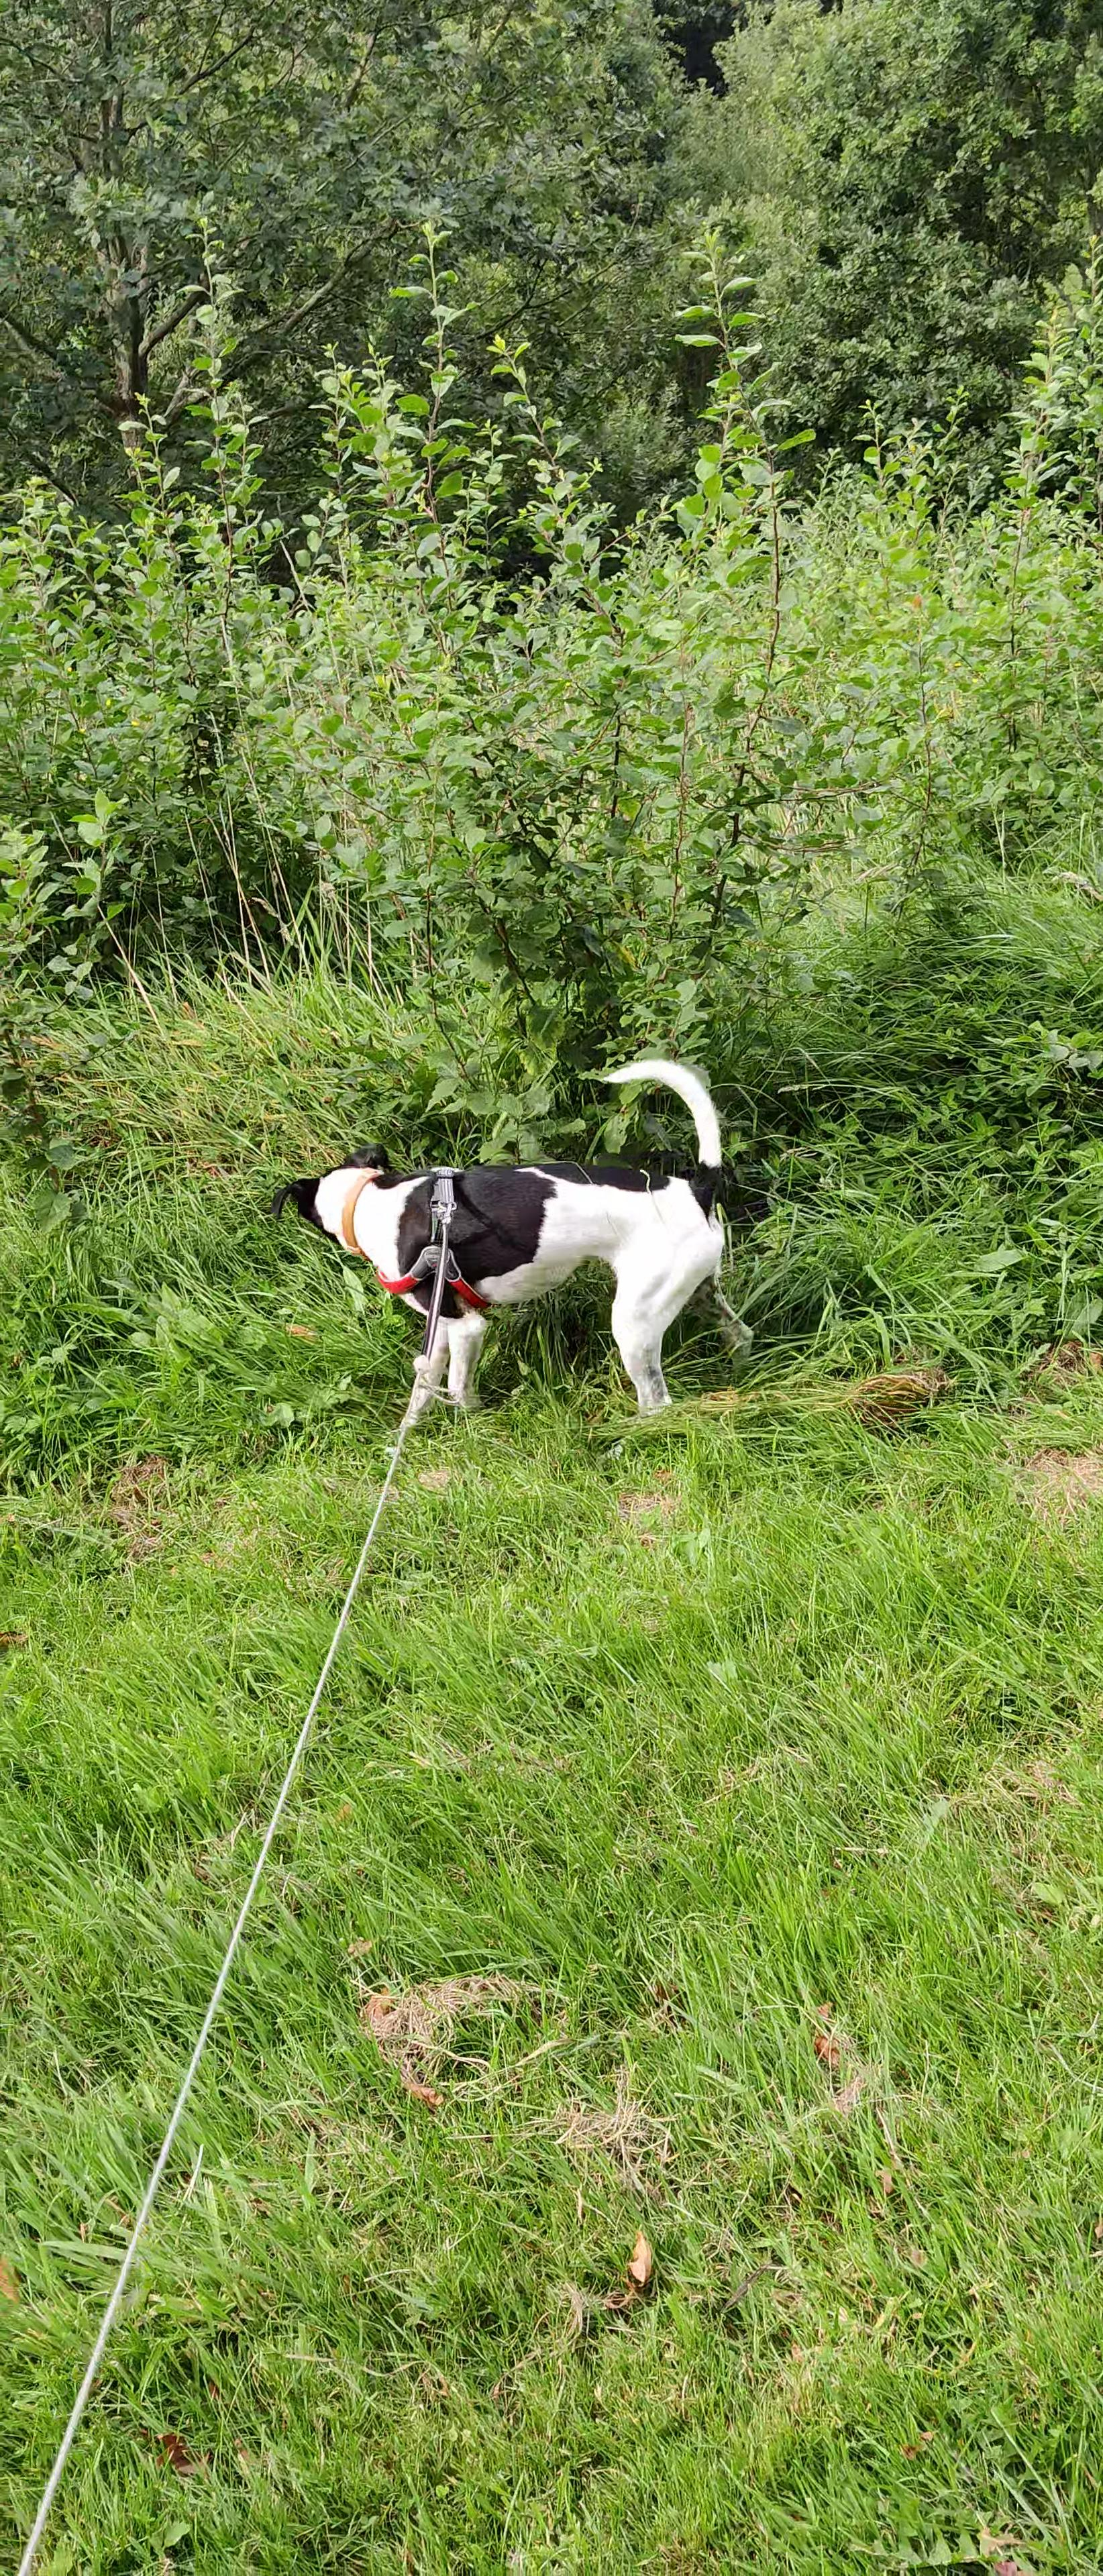Dog: (266, 1053, 759, 1428)
